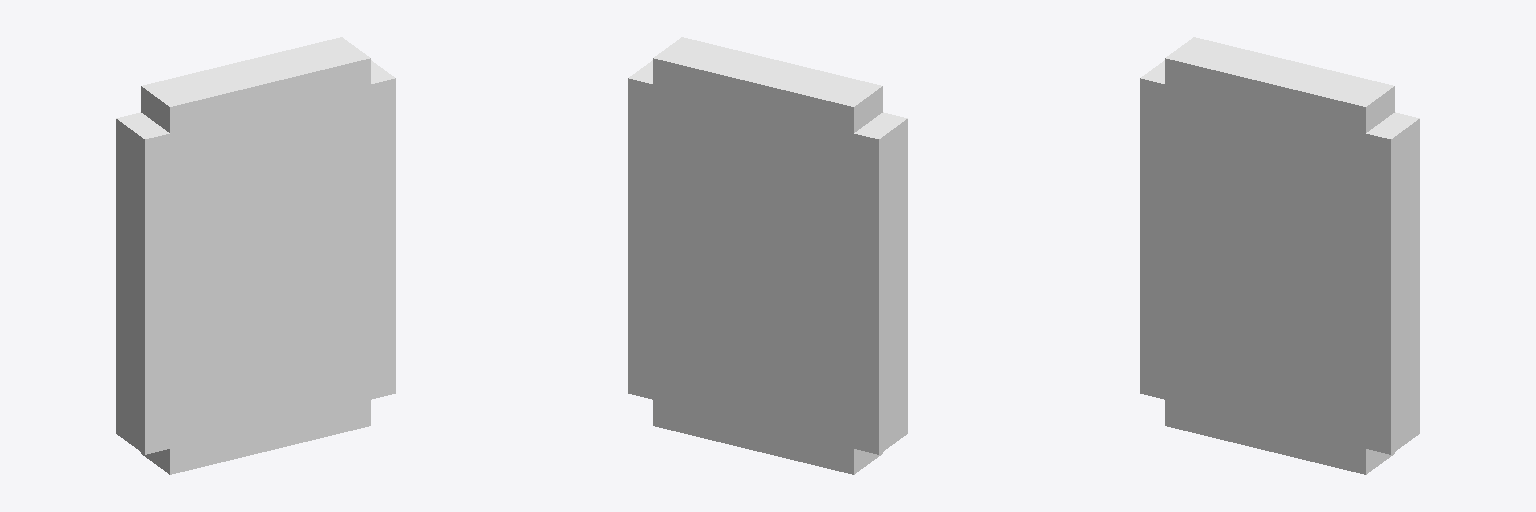
Rendered from bonus1.obj.
3 views of the same model, side by side, from view 1: azimuth 30°, elevation 25°; view 2: azimuth 150°, elevation 25°; view 3: azimuth 330°, elevation 25° (orthographic).
Parts seen in each view (by area): view 1: bonus1; view 2: bonus1; view 3: bonus1.
Part boxes in pixels (left/top/right/bottom): bonus1: left=116, top=37, right=395, bottom=474; bonus1: left=628, top=37, right=907, bottom=474; bonus1: left=1140, top=37, right=1419, bottom=474.
Bounding box in the file's own units: 10 × 14 × 2.